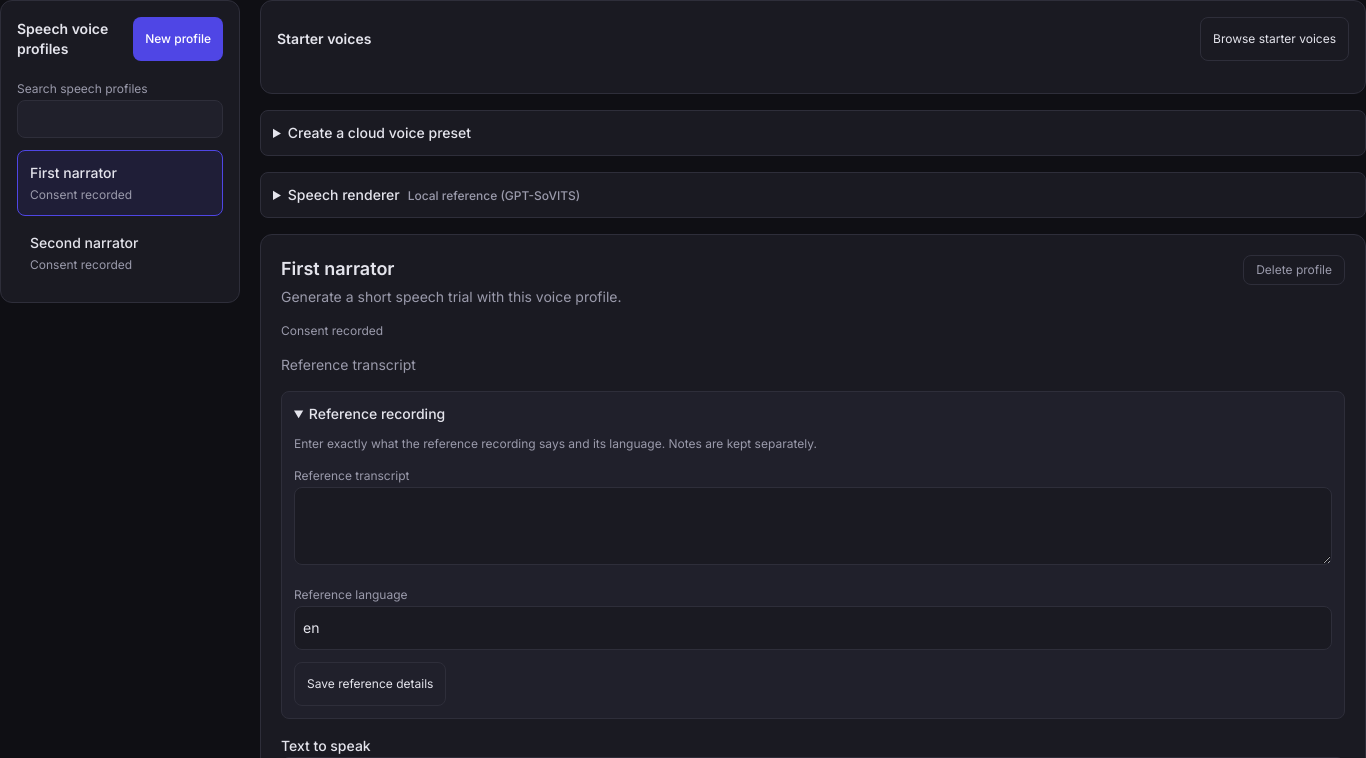
it: rejects an import response belonging to another starter before adding it to the library
This screenshot has width=1366, height=758.
Click the button "Browse starter voices" at {"x": 1275, "y": 39}, box [1200,17,1349,61]
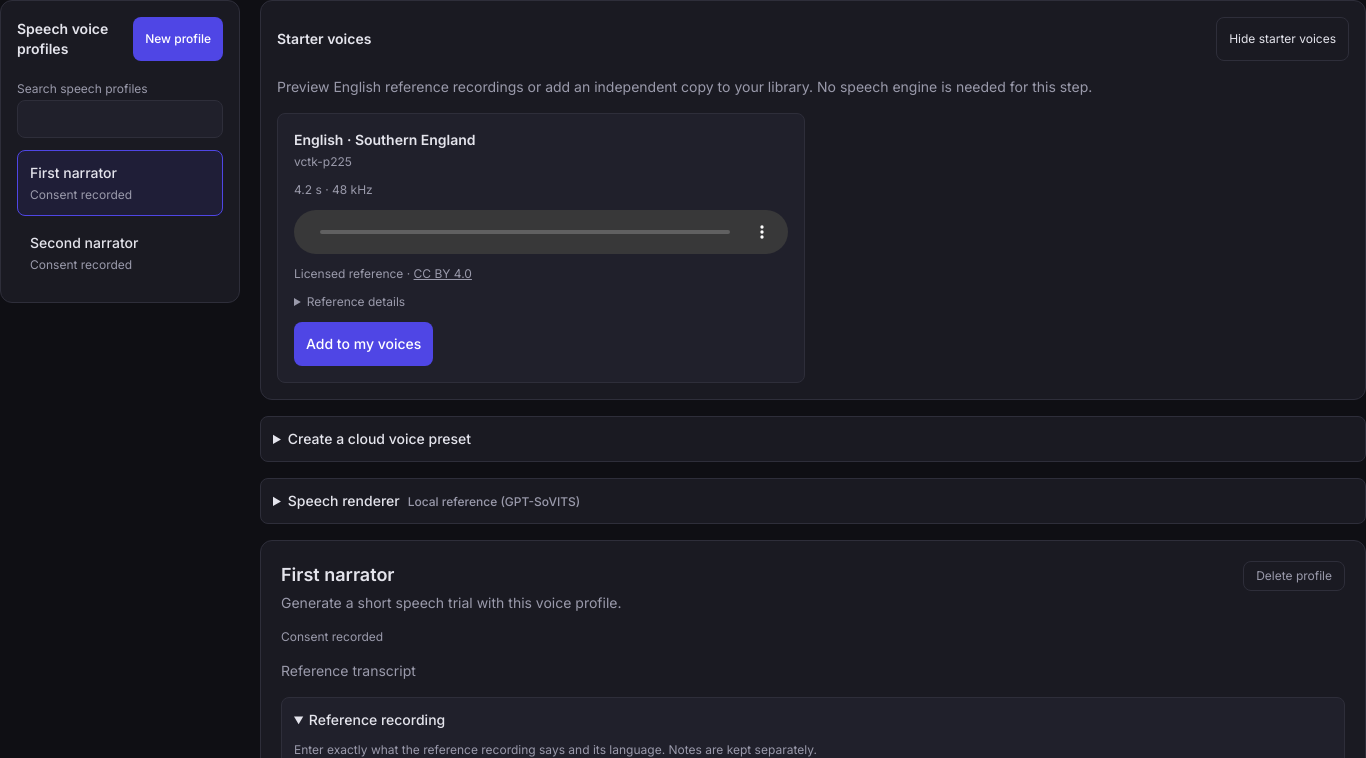
Click the button "Add to my voices" at {"x": 364, "y": 344}, box [294,322,433,366]
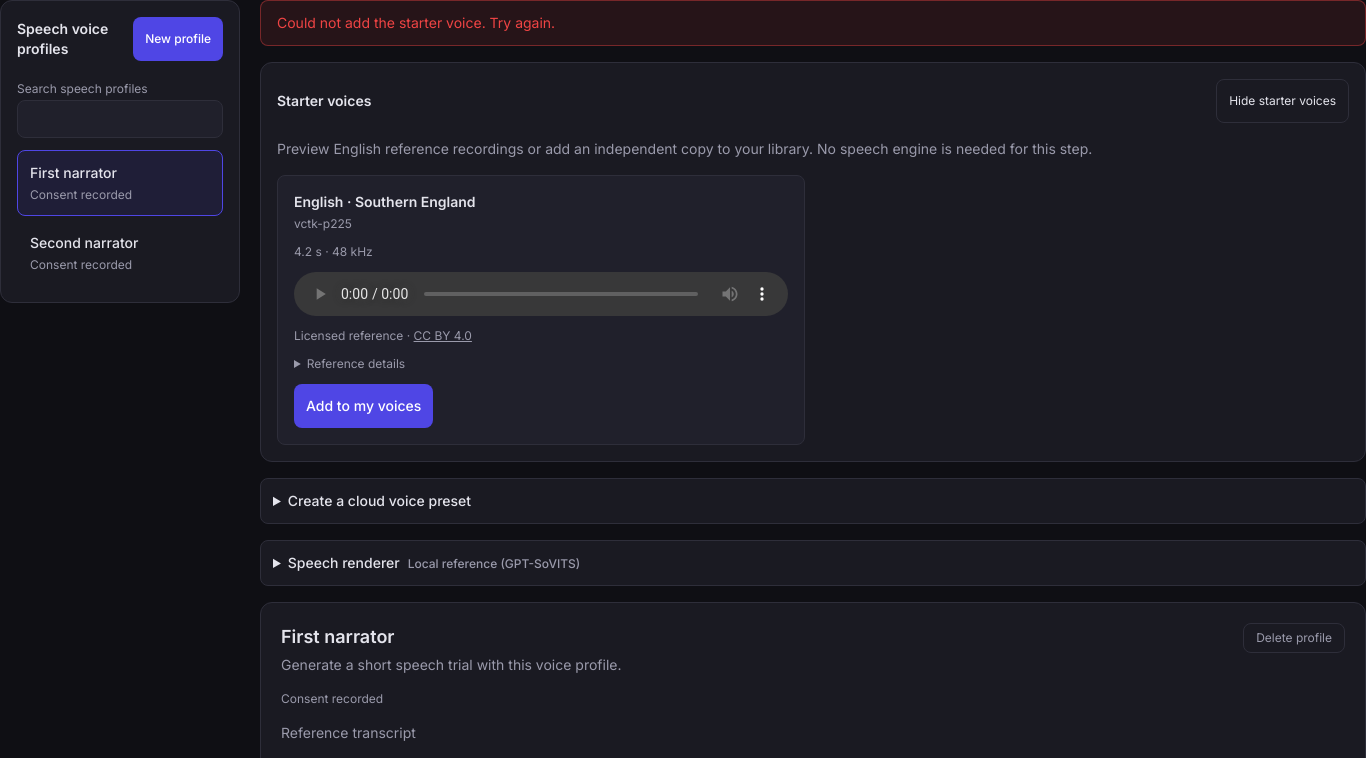
expect the text "Could not add the starter voice" is shown: met, box [277,14,555,31]
